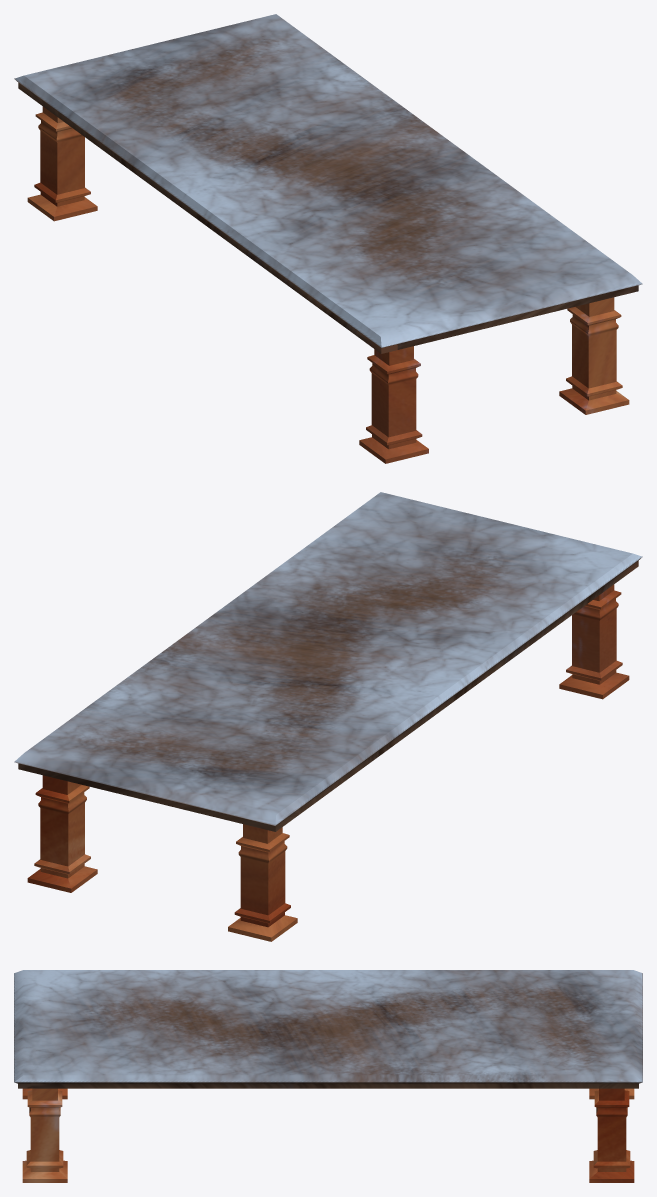
Rendered from ce489410-dc28-4521-93ce-ddd772e37ae8.glb.
3 views of the same model, one above another, from view 1: azimuth 30°, elevation 25°; view 2: azimuth 150°, elevation 25°; view 3: azimuth 270°, elevation 25° (orthographic). The views are drawn at different scales.
Parts seen in each view (by area): view 1: Object_2; view 2: Object_2; view 3: Object_2.
Part boxes in pixels (x1,y1,x2,y2): Object_2: (14, 14, 642, 463); Object_2: (14, 492, 642, 941); Object_2: (14, 970, 642, 1182).
Bounding box in the file's own units: 497 × 233 × 1212.
Materials: 1 (1 with a texture image).
